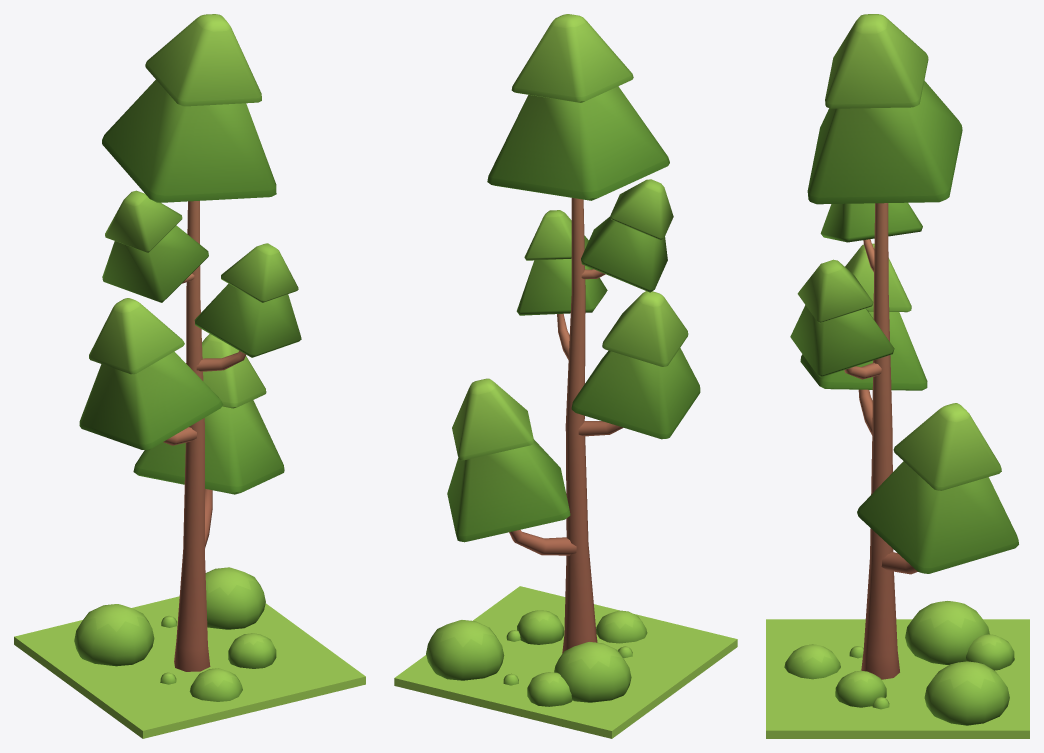
The model's file is pine.glb.
The picture shows the model from 3 angles, left to right: view 1: azimuth 30°, elevation 25°; view 2: azimuth 150°, elevation 25°; view 3: azimuth 270°, elevation 25°; orthographic projection. The views are drawn at different scales.
Visible parts, largest first — view 1: Pine; view 2: Pine; view 3: Pine.
Boxes of the visible parts, <box> form: Pine: <box>14,14,365,738</box>; Pine: <box>394,14,737,738</box>; Pine: <box>766,14,1029,738</box>.
Bounding box in the file's own units: 0.29 × 0.8349 × 0.29.
Materials: 1 (1 with a texture image).
